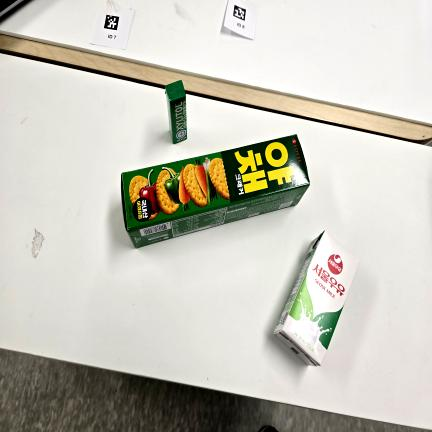cracker_vege: (121, 135, 310, 248)
gum_green: (165, 80, 187, 144)
milk_green: (274, 232, 359, 366)
